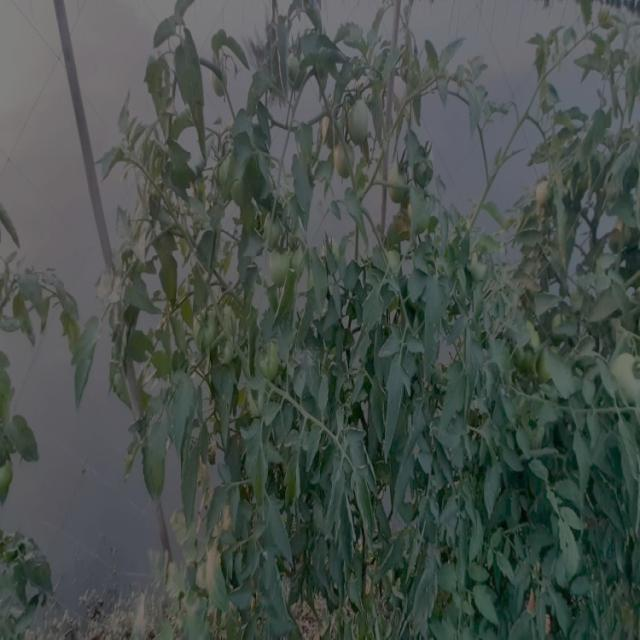tomato: (612, 350, 640, 406), (385, 161, 416, 206), (349, 101, 377, 147), (415, 146, 439, 192), (254, 339, 282, 377), (333, 142, 358, 184), (535, 173, 559, 215), (193, 305, 219, 343), (515, 324, 539, 364), (227, 173, 253, 209), (470, 247, 491, 289), (265, 249, 291, 282), (212, 64, 231, 104), (387, 240, 407, 276), (265, 213, 288, 244), (216, 333, 235, 368), (287, 50, 306, 83), (556, 312, 572, 337), (296, 244, 308, 276)
